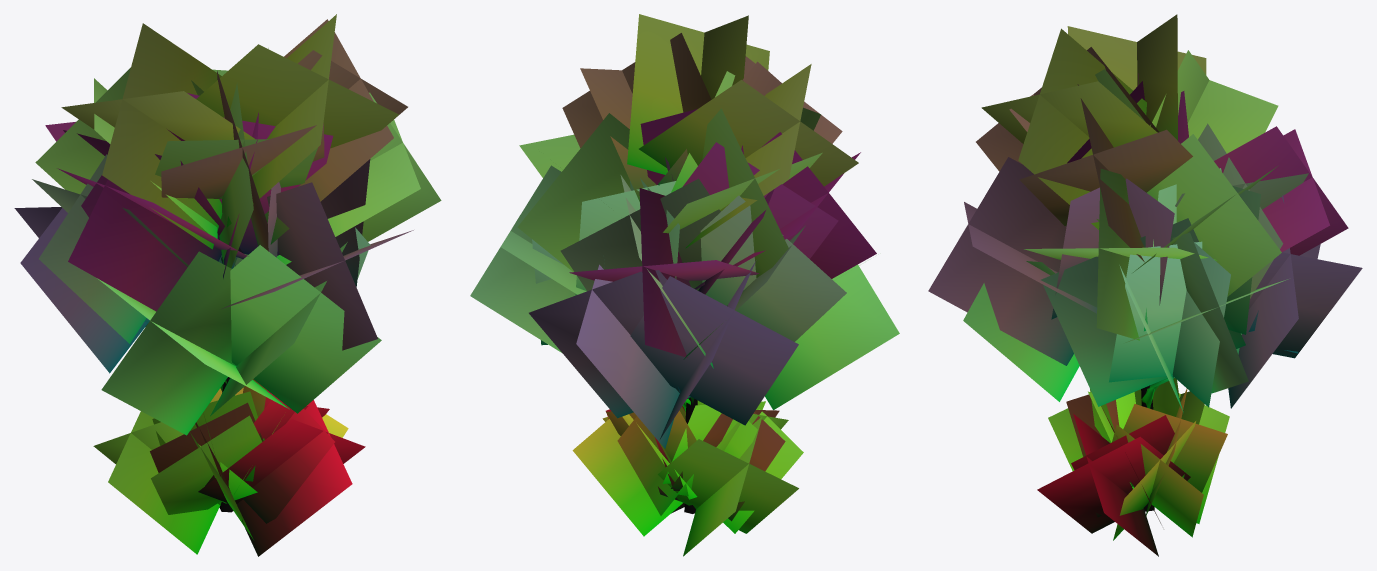
File: URP_P12_Tree_1_LOD_3.fbx
3 views of the same model, side by side, from view 1: azimuth 30°, elevation 25°; view 2: azimuth 150°, elevation 25°; view 3: azimuth 270°, elevation 25° (orthographic). The views are drawn at different scales.
Visible parts, largest first — view 1: Tree_1_LOD_3; view 2: Tree_1_LOD_3; view 3: Tree_1_LOD_3.
Part boxes in pixels (box(x1,y1,x2,y2)): Tree_1_LOD_3: box(14, 14, 441, 556); Tree_1_LOD_3: box(470, 14, 899, 556); Tree_1_LOD_3: box(928, 14, 1362, 556).
Bounding box in the file's own units: 168 × 232 × 183.
